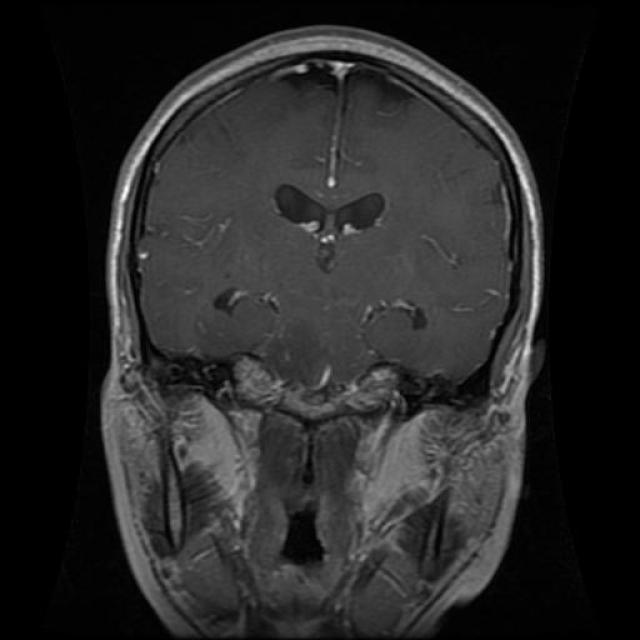glioma: (274, 174, 400, 274)
